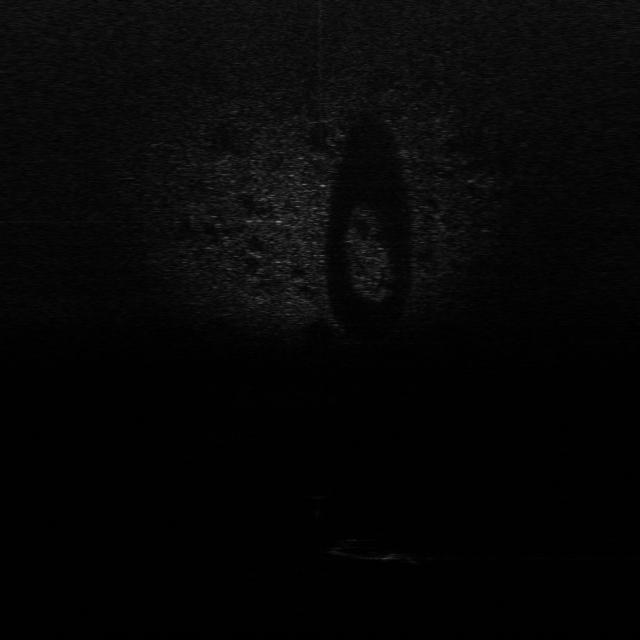ball: (306, 481, 336, 502)
tyre: (324, 536, 414, 566)
